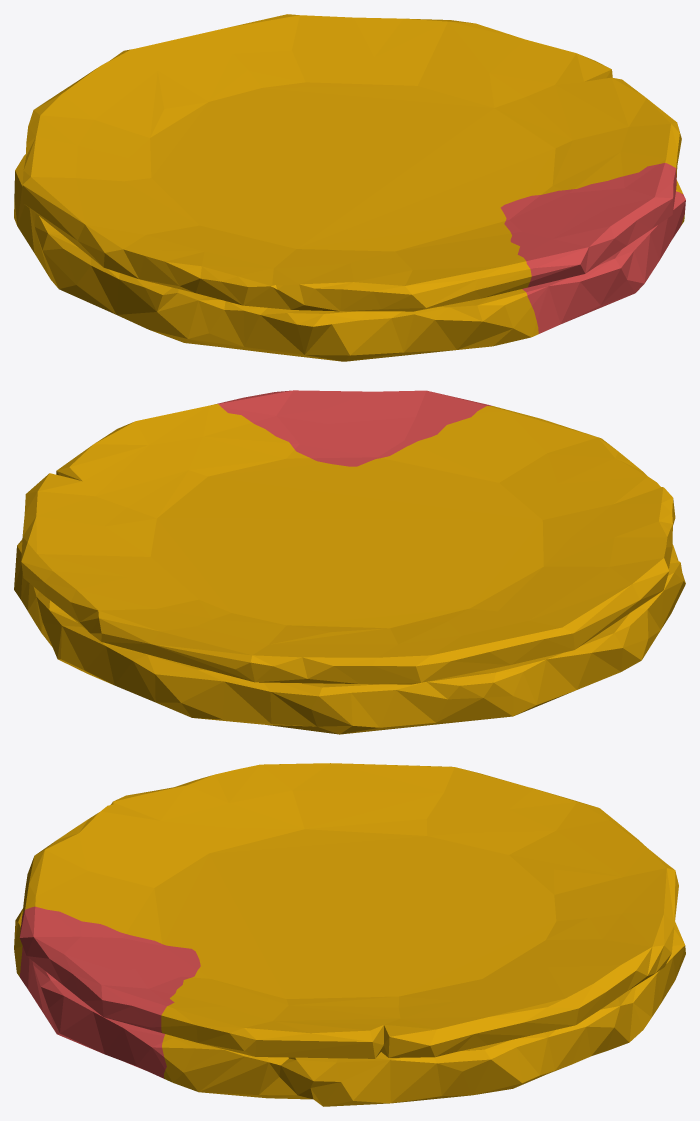
Rendered from fractured_41_2pcs.glb.
The picture shows the model from 3 angles, top to bottom: view 1: azimuth 30°, elevation 25°; view 2: azimuth 150°, elevation 25°; view 3: azimuth 270°, elevation 25°; orthographic projection.
Visible parts, largest first — view 1: piece_0.obj, piece_1.obj; view 2: piece_0.obj, piece_1.obj; view 3: piece_0.obj, piece_1.obj.
Part boxes in pixels (left/top/right/bottom): piece_0.obj: left=14, top=14, right=684, bottom=361; piece_1.obj: left=500, top=163, right=685, bottom=333; piece_0.obj: left=14, top=404, right=685, bottom=734; piece_1.obj: left=217, top=390, right=491, bottom=466; piece_0.obj: left=14, top=763, right=685, bottom=1106; piece_1.obj: left=19, top=906, right=200, bottom=1078.
Bounding box in the file's own units: 1 × 0.1467 × 0.9969.
